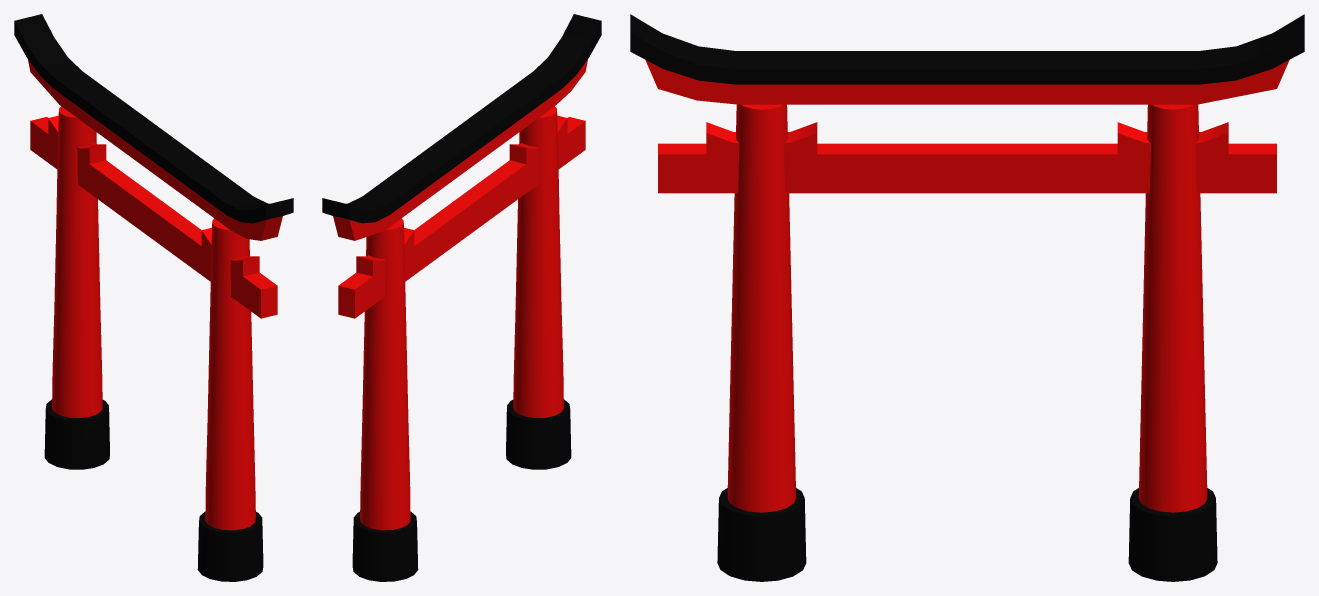
File: japanese gate.fbx
3 renders of one model, left to right at view 1: azimuth 30°, elevation 25°; view 2: azimuth 150°, elevation 25°; view 3: azimuth 270°, elevation 25°, orthographic. The views are drawn at different scales.
Visible parts, largest first — view 1: japanese gate; view 2: japanese gate; view 3: japanese gate.
Part boxes in pixels (x1,y1,x2,y2): japanese gate: (14, 14, 293, 581); japanese gate: (322, 14, 601, 581); japanese gate: (630, 14, 1304, 581).
Bounding box in the file's own units: 10.36 × 78.65 × 69.48.
